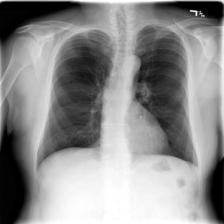normal: (31, 23, 207, 175)
